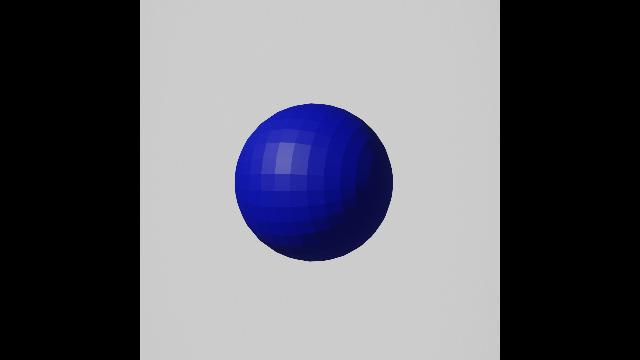Sphere: (233, 94, 395, 264)
